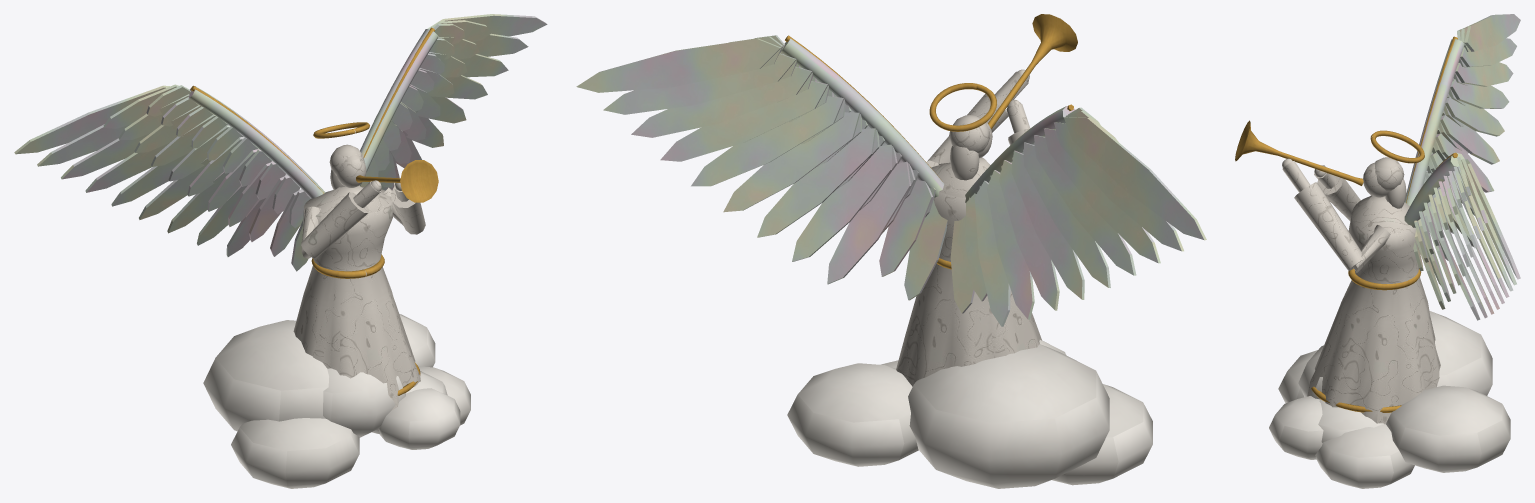
File: lb_angel.glb
The picture shows the model from 3 angles, left to right: view 1: azimuth 30°, elevation 25°; view 2: azimuth 150°, elevation 25°; view 3: azimuth 270°, elevation 25°; orthographic projection. The views are drawn at different scales.
Visible parts, largest first — view 1: lb_angel; view 2: lb_angel; view 3: lb_angel.
Part boxes in pixels (x1,y1,x2,y2): lb_angel: (14, 14, 547, 488); lb_angel: (576, 14, 1206, 488); lb_angel: (1235, 14, 1520, 488).
Size of the model in its own units: 5.62 by 3.69 by 2.62.
4 materials, 4 textured.
